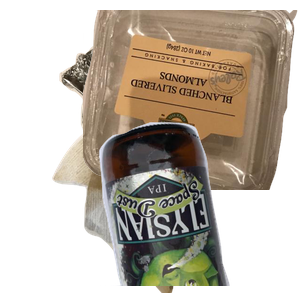glass: (97, 120, 300, 300)
metal: (57, 36, 241, 216)
plastic: (83, 10, 300, 190)
trash: (50, 120, 219, 300)
